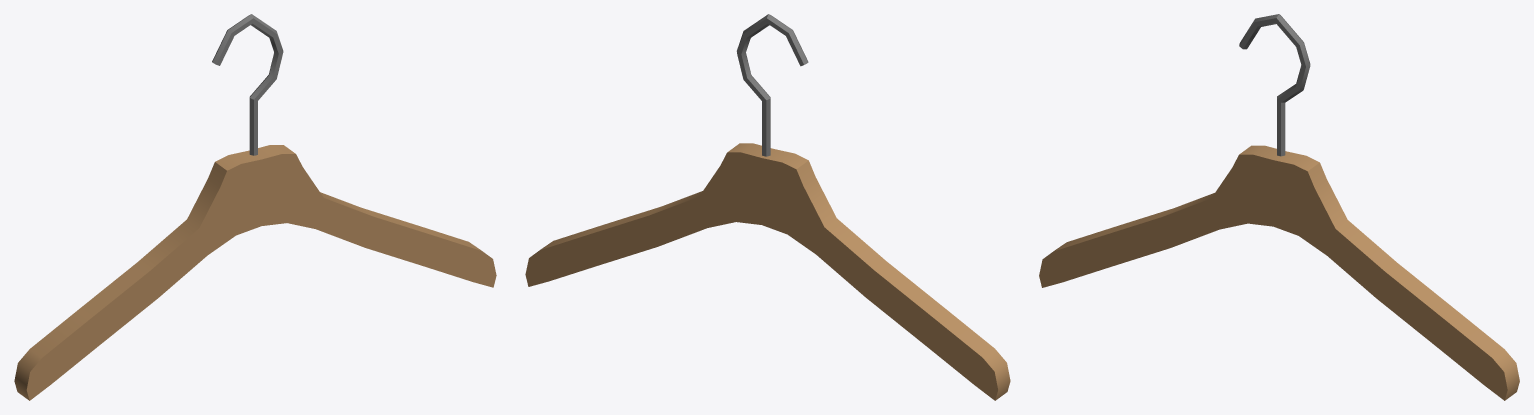
File: Cintre.fbx
The picture shows the model from 3 angles, left to right: view 1: azimuth 30°, elevation 25°; view 2: azimuth 150°, elevation 25°; view 3: azimuth 330°, elevation 25°; orthographic projection.
Visible parts, largest first — view 1: Cintre; view 2: Cintre; view 3: Cintre.
Boxes of the visible parts, x1,y1,x2,y2 form: Cintre: (14, 14, 496, 400); Cintre: (525, 14, 1010, 400); Cintre: (1039, 14, 1519, 400).
Bounding box in the file's own units: 38.77 × 25.64 × 1.75.
